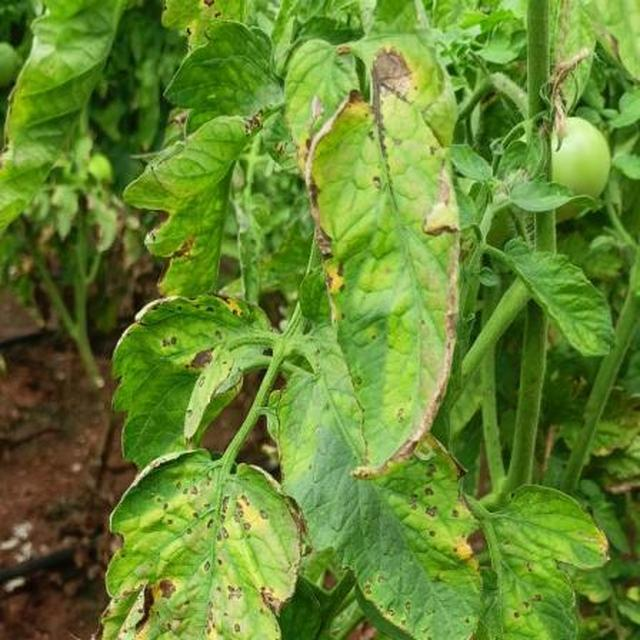Early Blight Leaf: (229, 265, 546, 640)
